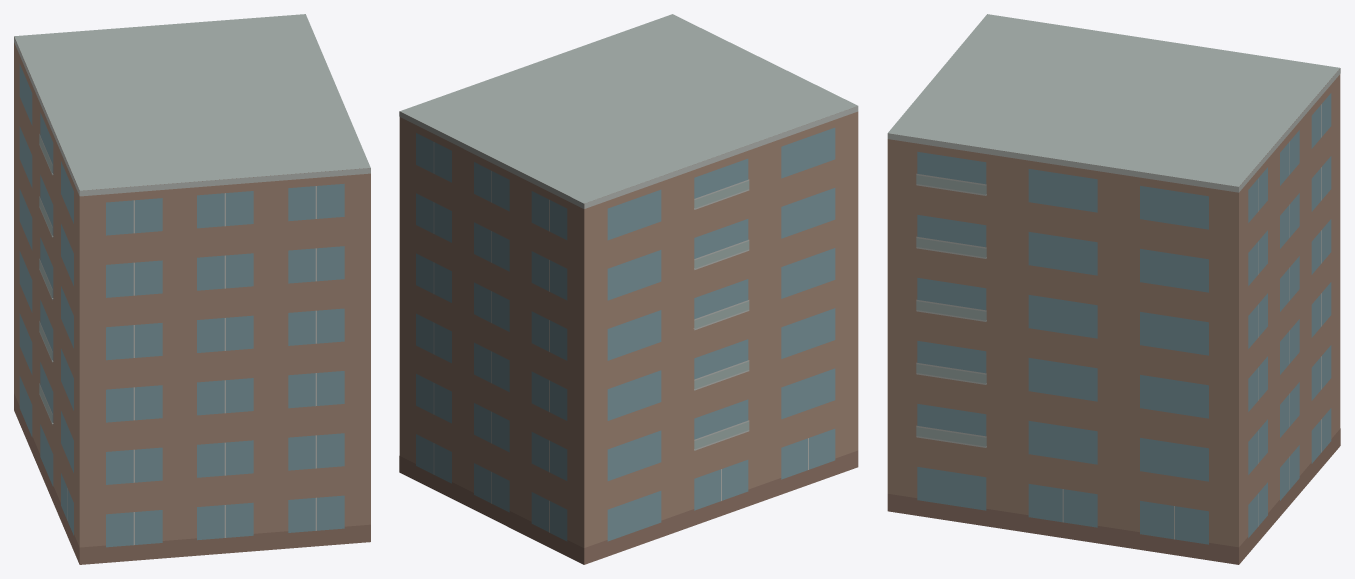
The model's file is survey-upis-32884238.glb.
3 views of the same model, side by side, from view 1: azimuth 30°, elevation 25°; view 2: azimuth 150°, elevation 25°; view 3: azimuth 270°, elevation 25° (orthographic). The views are drawn at different scales.
Visible parts, largest first — view 1: survey-upis-32884238.tmp; view 2: survey-upis-32884238.tmp; view 3: survey-upis-32884238.tmp.
Part boxes in pixels (left/top/right/bottom): survey-upis-32884238.tmp: left=14, top=14, right=370, bottom=564; survey-upis-32884238.tmp: left=399, top=14, right=858, bottom=564; survey-upis-32884238.tmp: left=887, top=14, right=1340, bottom=564.
Bounding box in the file's own units: 15.6 × 15.9 × 17.28.
